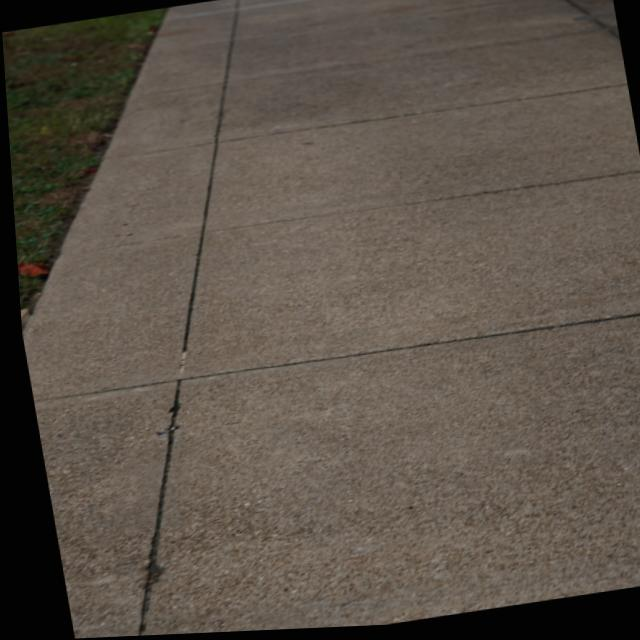Sidewalk: (18, 0, 640, 639)
